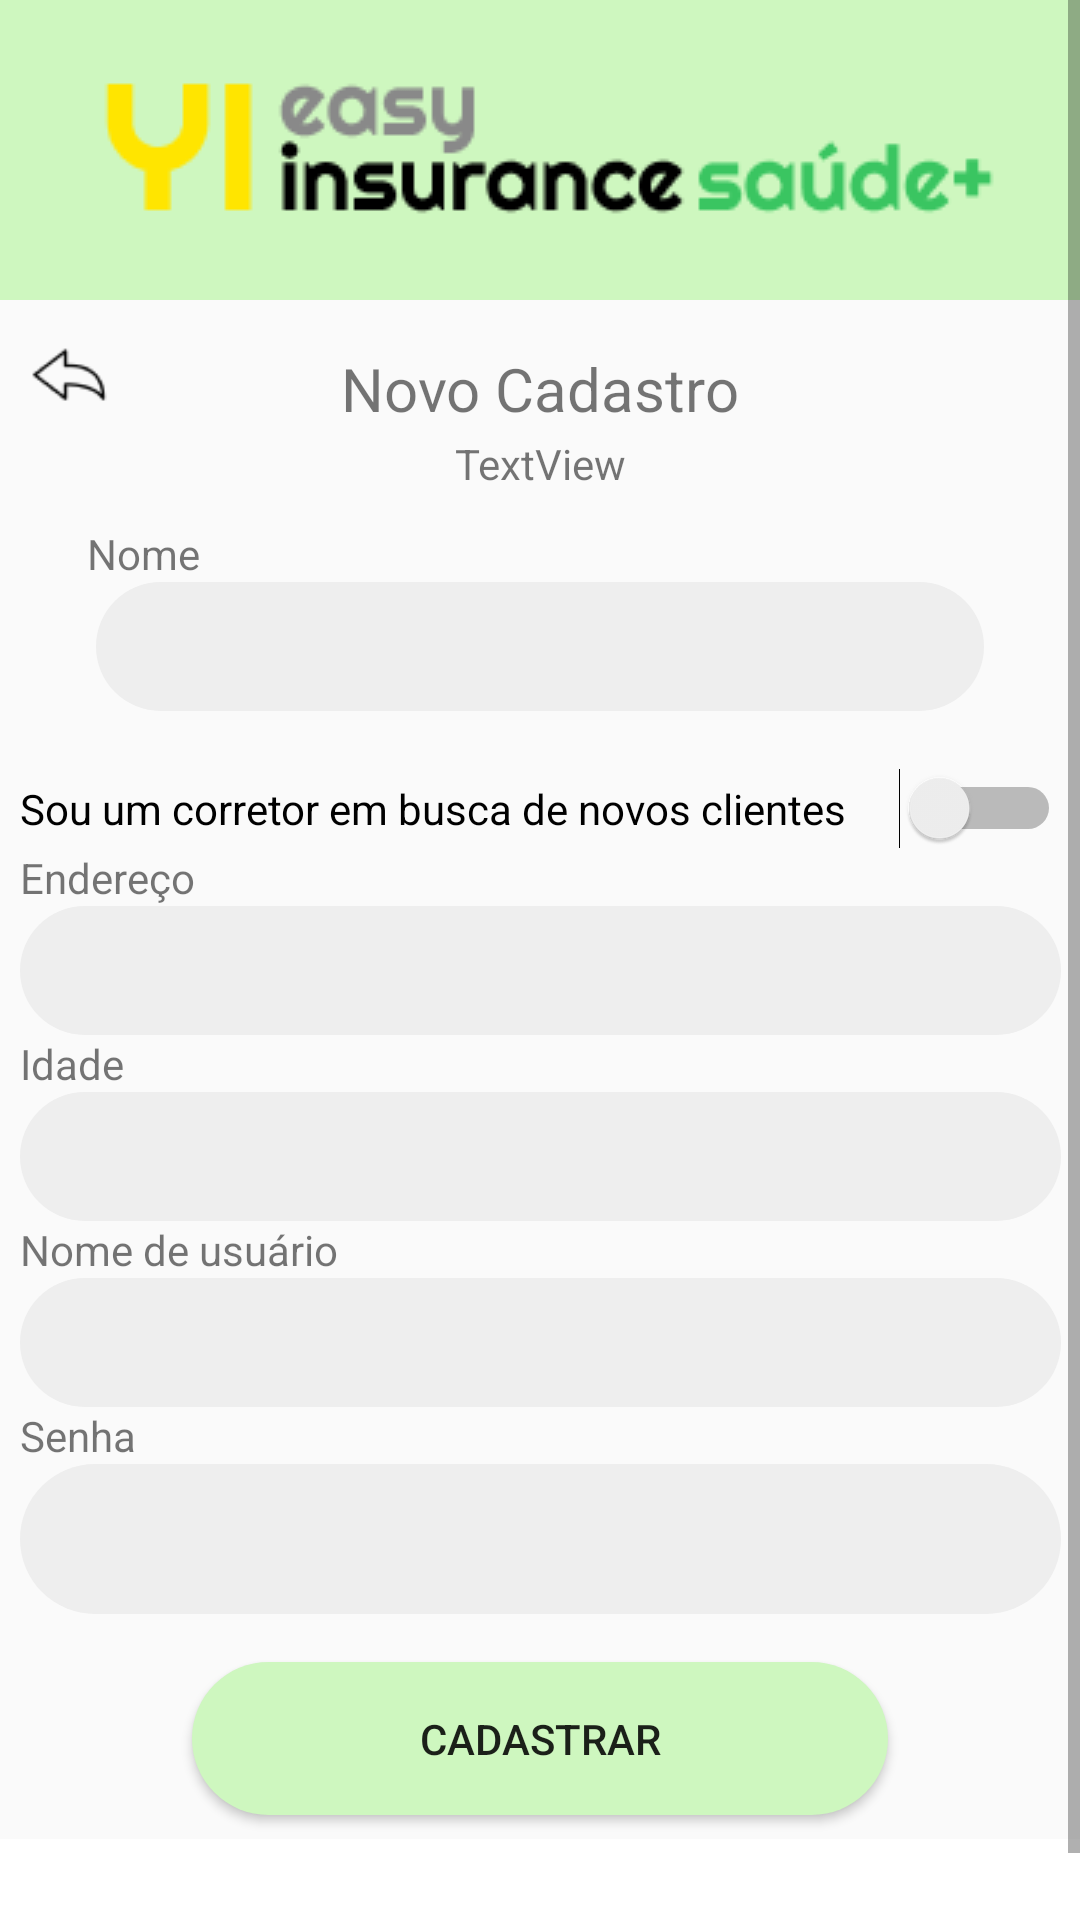

Point at icon controls on the screen. Image size 1080px x 1920px, points as (x=x, y=y).
back: (x=69, y=374)
